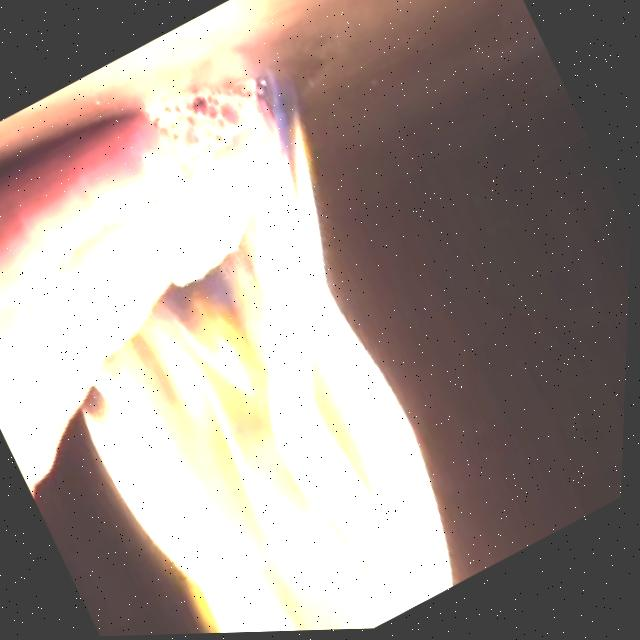Fire: (0, 59, 540, 640)
